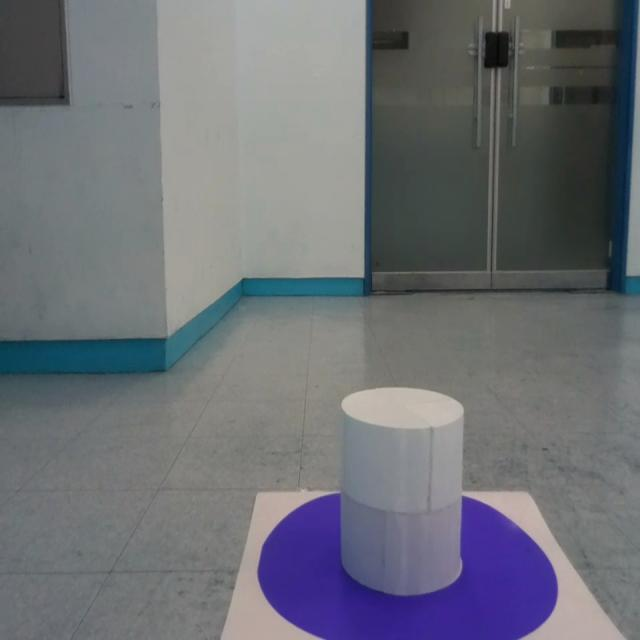cylinder: (338, 386, 464, 596)
